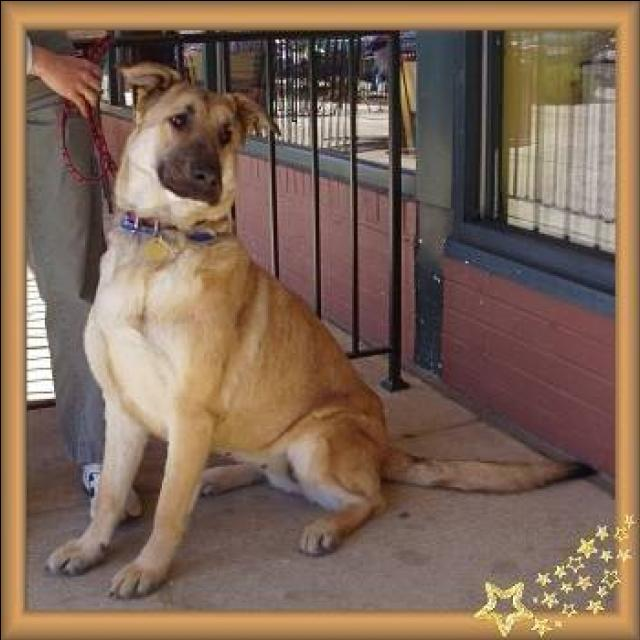dog: (37, 64, 597, 604)
